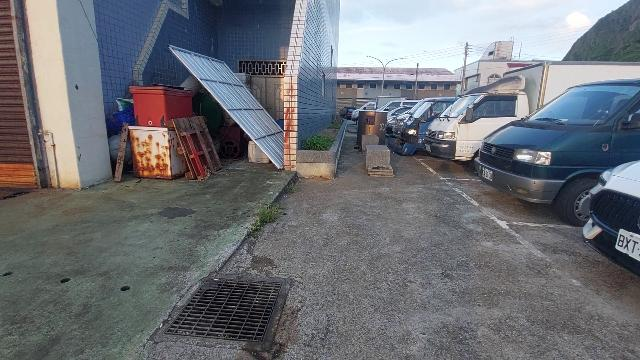pollute: (166, 116, 222, 181), (128, 126, 184, 179), (131, 85, 194, 128), (219, 121, 244, 160), (107, 98, 130, 133), (116, 122, 129, 181), (247, 141, 270, 164), (109, 135, 122, 161)
